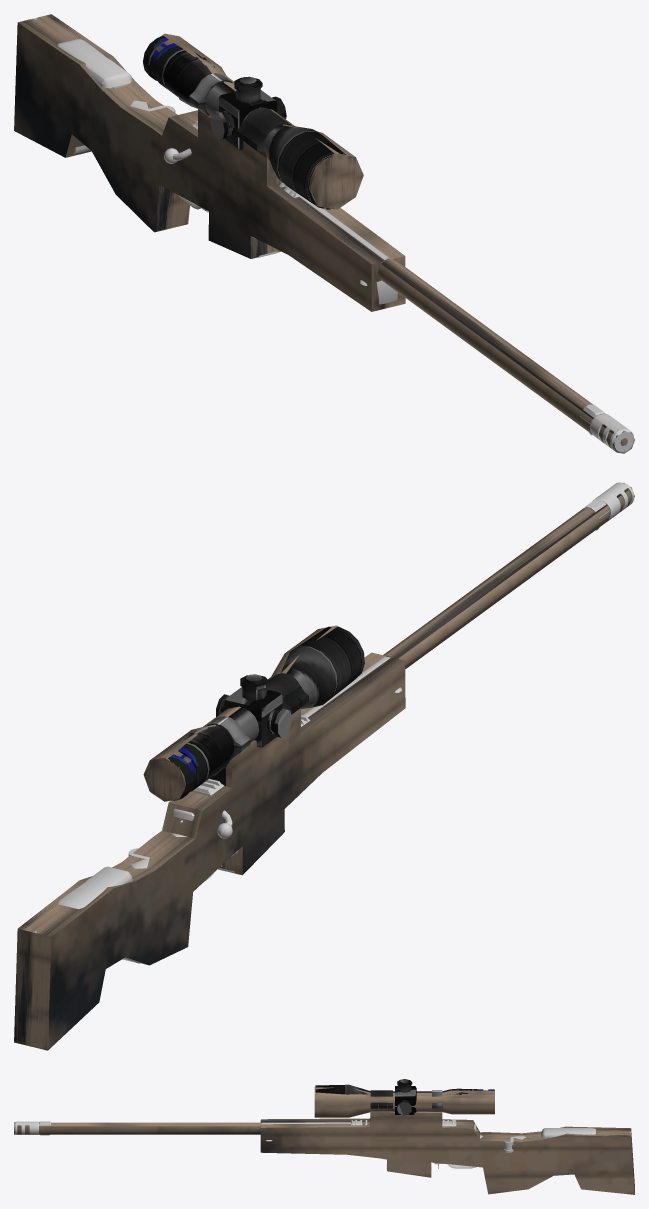
File: awp2.FBX
The picture shows the model from 3 angles, top to bottom: view 1: azimuth 30°, elevation 25°; view 2: azimuth 150°, elevation 25°; view 3: azimuth 270°, elevation 25°; orthographic projection. The views are drawn at different scales.
Parts seen in each view (by area): view 1: lod, Main_Body; view 2: lod, Main_Body; view 3: lod, Main_Body.
Boxes of the visible parts, bbox=[...] form: lod: bbox=[14, 14, 634, 453]; Main_Body: bbox=[33, 18, 633, 452]; lod: bbox=[14, 482, 634, 1050]; Main_Body: bbox=[33, 482, 634, 963]; lod: bbox=[14, 1087, 634, 1194]; Main_Body: bbox=[14, 1079, 630, 1168].
Bounding box in the file's own units: 7.55 × 24.21 × 125.
